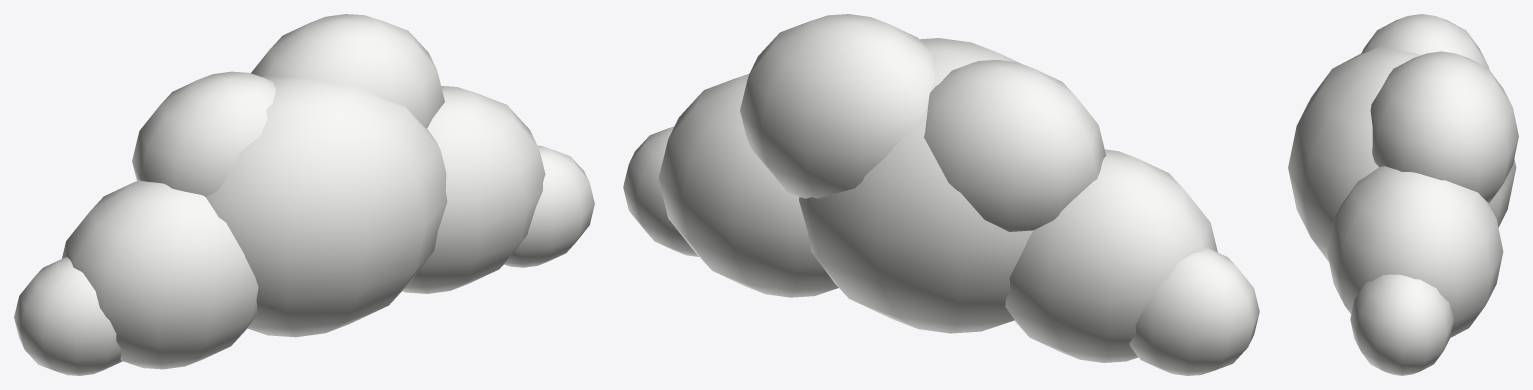
The model's file is Cloud.fbx.
3 views of the same model, side by side, from view 1: azimuth 30°, elevation 25°; view 2: azimuth 150°, elevation 25°; view 3: azimuth 270°, elevation 25° (orthographic). The views are drawn at different scales.
Parts seen in each view (by area): view 1: Cloud; view 2: Cloud; view 3: Cloud.
Part boxes in pixels (x1,y1,x2,y2): Cloud: (14,14,594,375); Cloud: (623,14,1259,375); Cloud: (1288,14,1518,375).
Bounding box in the file's own units: 9.1 × 4.15 × 3.56.
1 material, 1 textured.
